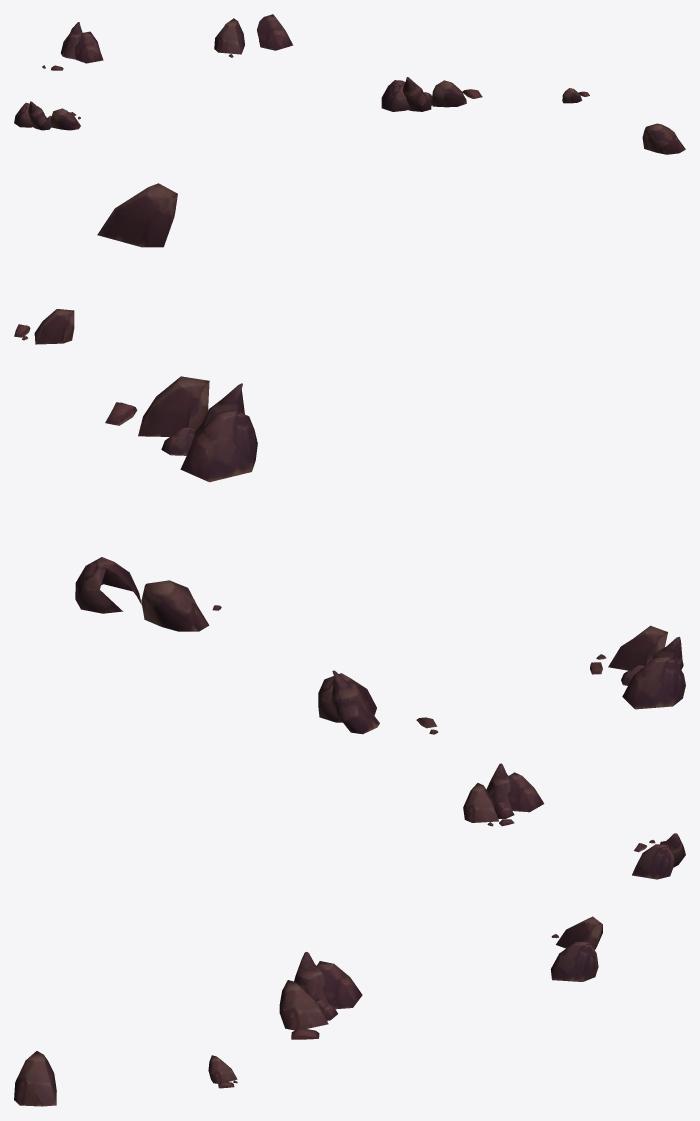
The model's file is area_09_shanshi01.FBX.
3 renders of one model, top to bottom at view 1: azimuth 30°, elevation 25°; view 2: azimuth 150°, elevation 25°; view 3: azimuth 270°, elevation 25°, orthographic. The views are drawn at different scales.
Visible parts, largest first — view 1: area_09_shanshi01; view 2: area_09_shanshi01; view 3: area_09_shanshi01.
Boxes of the visible parts, x1=… form: area_09_shanshi01: x1=14, y1=14, x2=685, y2=154; area_09_shanshi01: x1=14, y1=183, x2=685, y2=734; area_09_shanshi01: x1=14, y1=763, x2=685, y2=1106.
Size of the model in its own units: 4802 by 360 by 4408.
